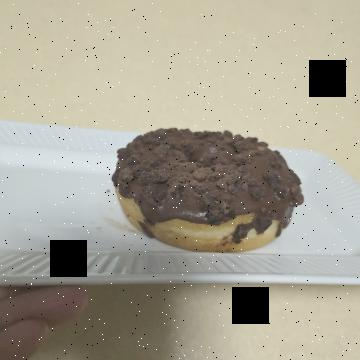doughnut: (115, 50, 267, 266)
